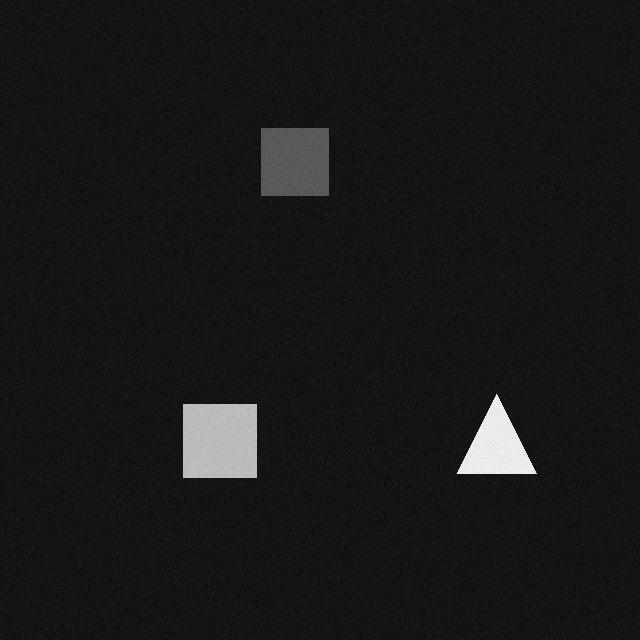square: (178, 393, 251, 466), (256, 117, 323, 184)
triangle: (452, 383, 531, 462)
